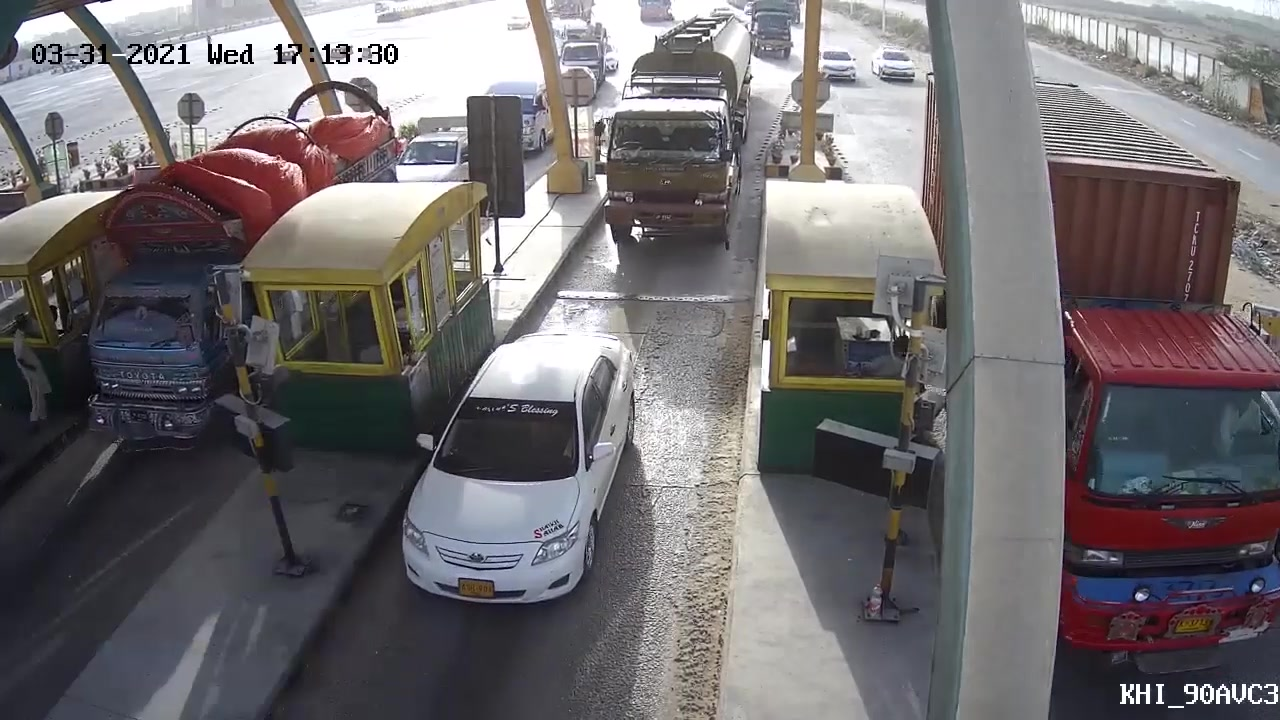F1: (392, 323, 643, 627)
F6: (595, 7, 756, 253)
